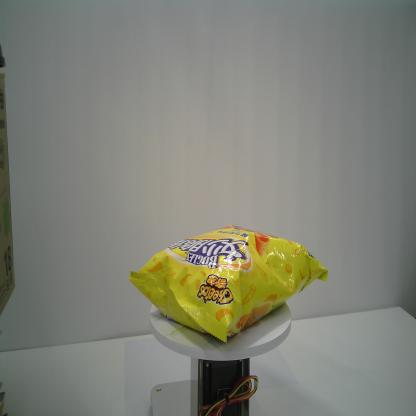Puffed Food: (126, 222, 329, 346)
